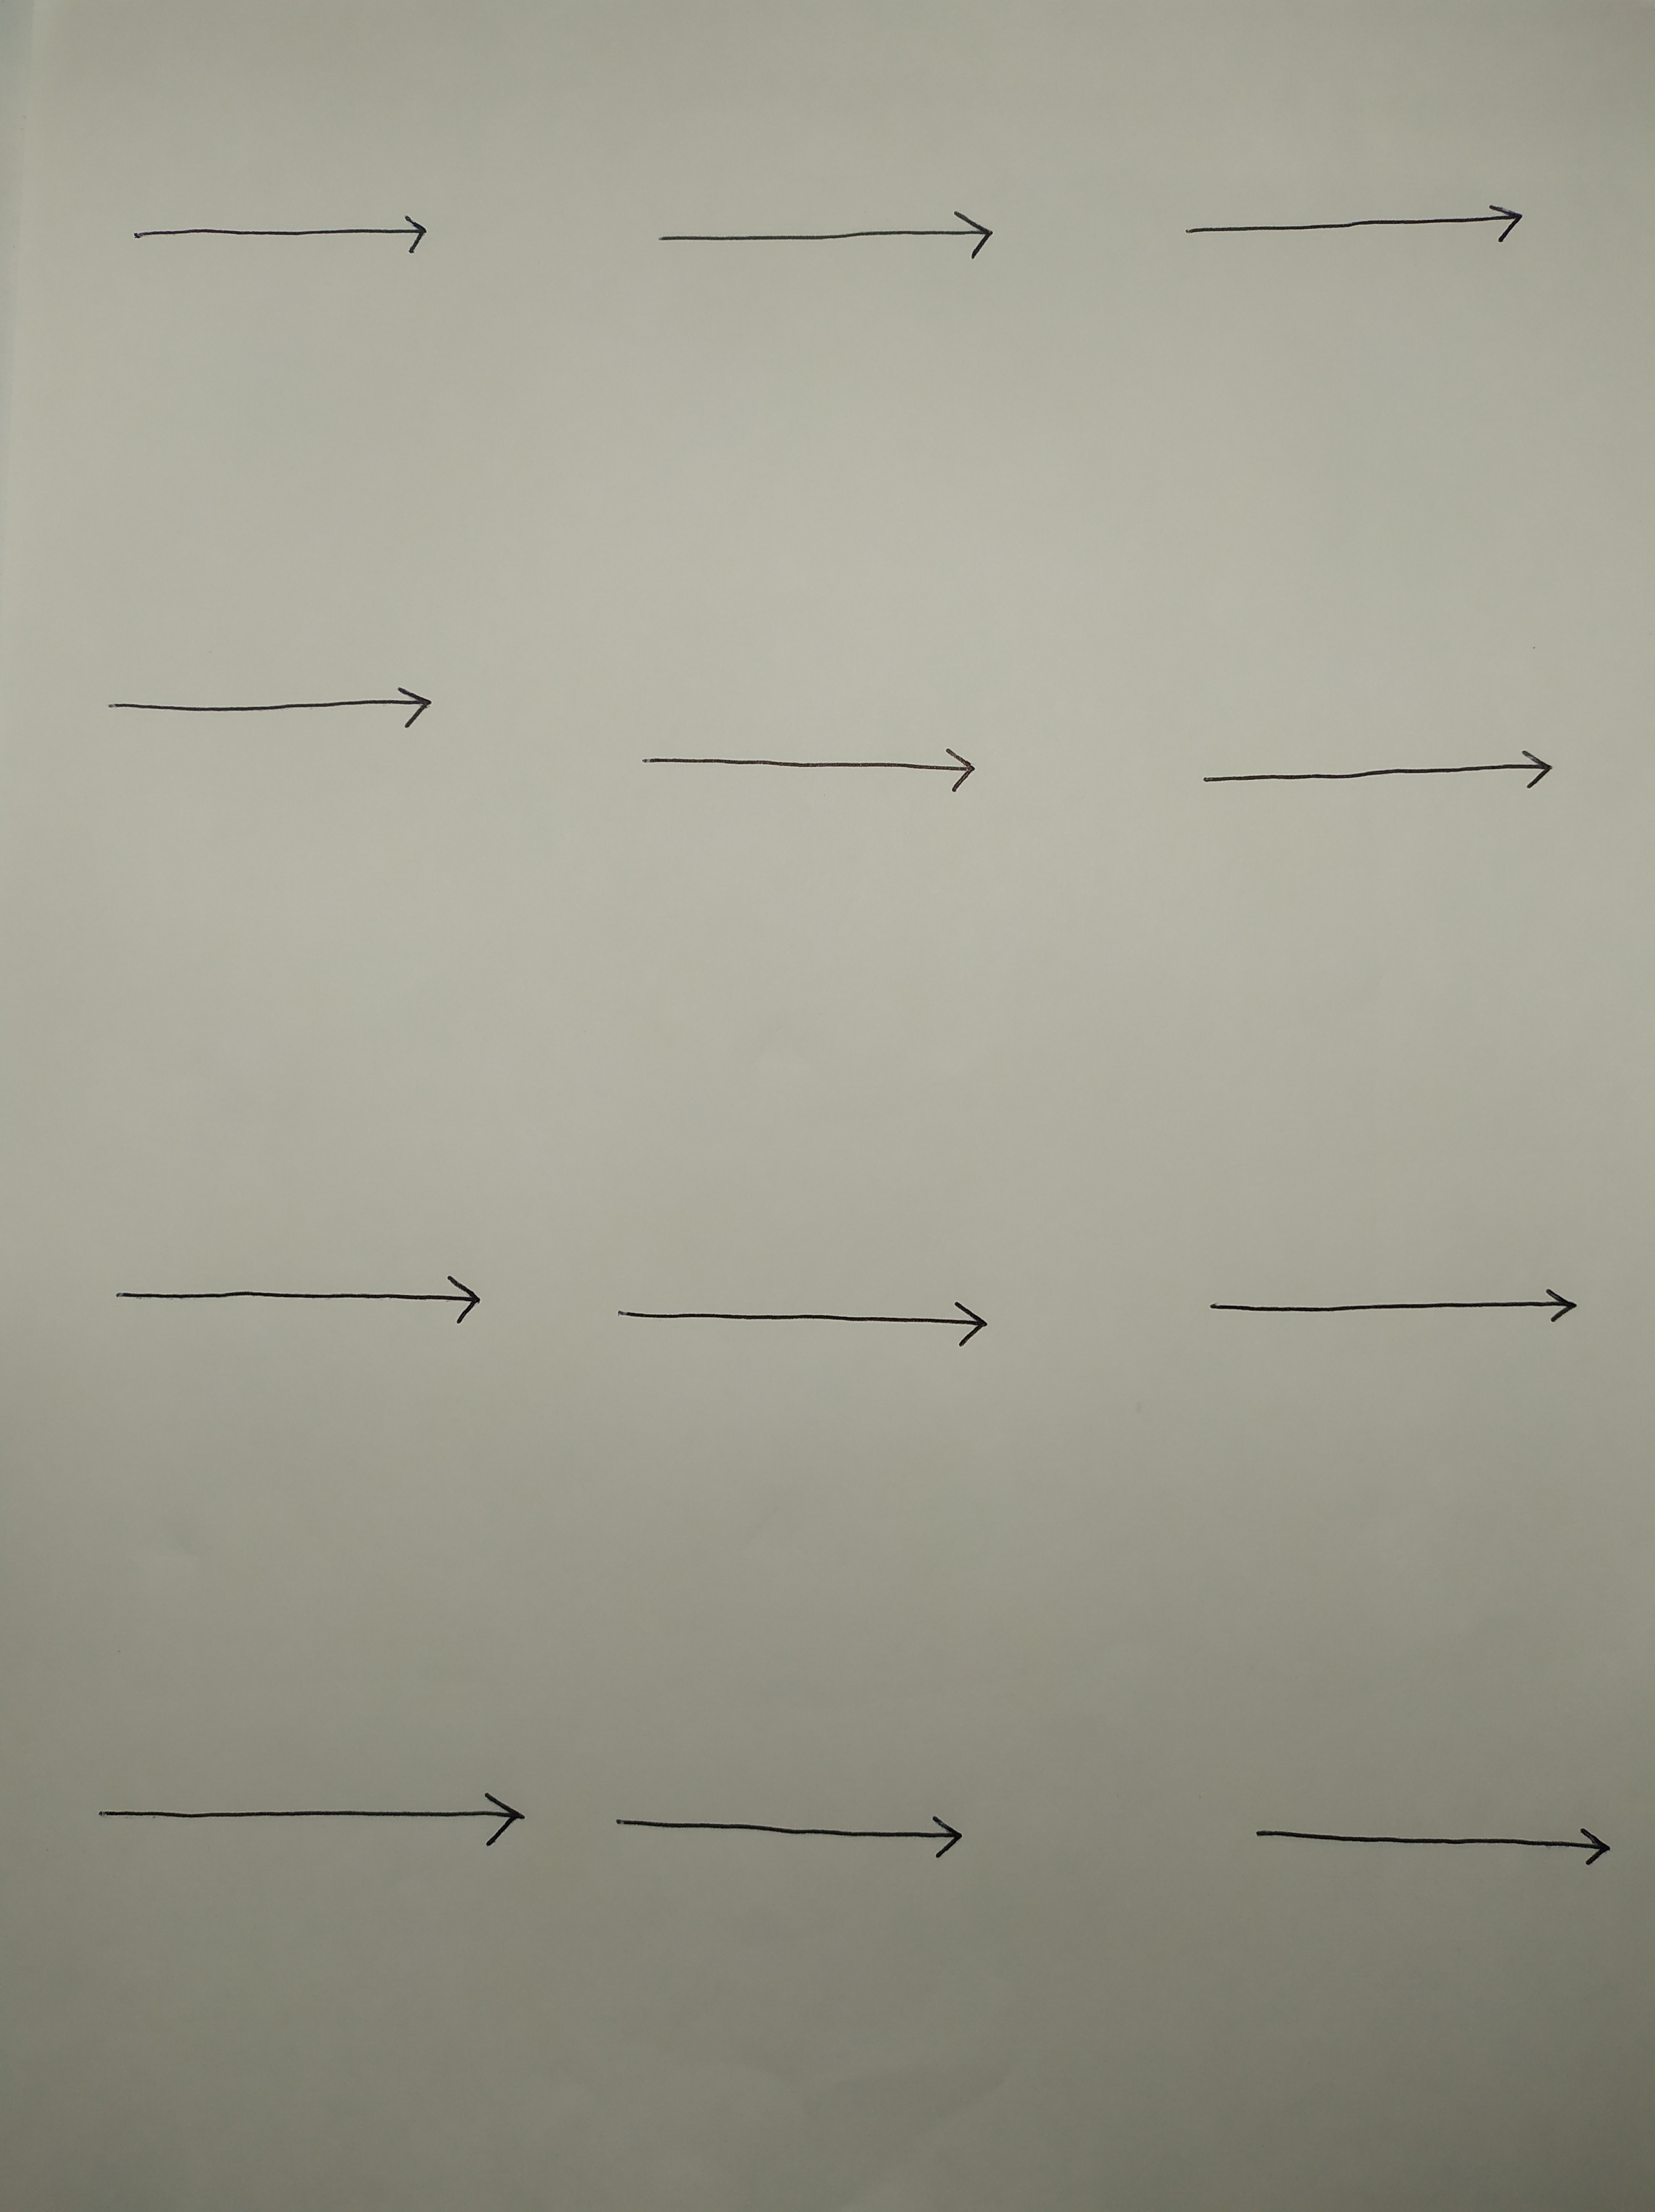arrow_line_right: (73, 1741, 555, 1880), (591, 686, 1029, 834), (593, 1246, 1017, 1383), (614, 179, 1071, 299), (1135, 172, 1570, 283), (80, 1251, 508, 1364), (1170, 1241, 1582, 1355), (586, 1776, 1029, 1877), (1219, 1788, 1631, 1896), (1149, 719, 1561, 818), (68, 653, 457, 758), (101, 191, 504, 287)
